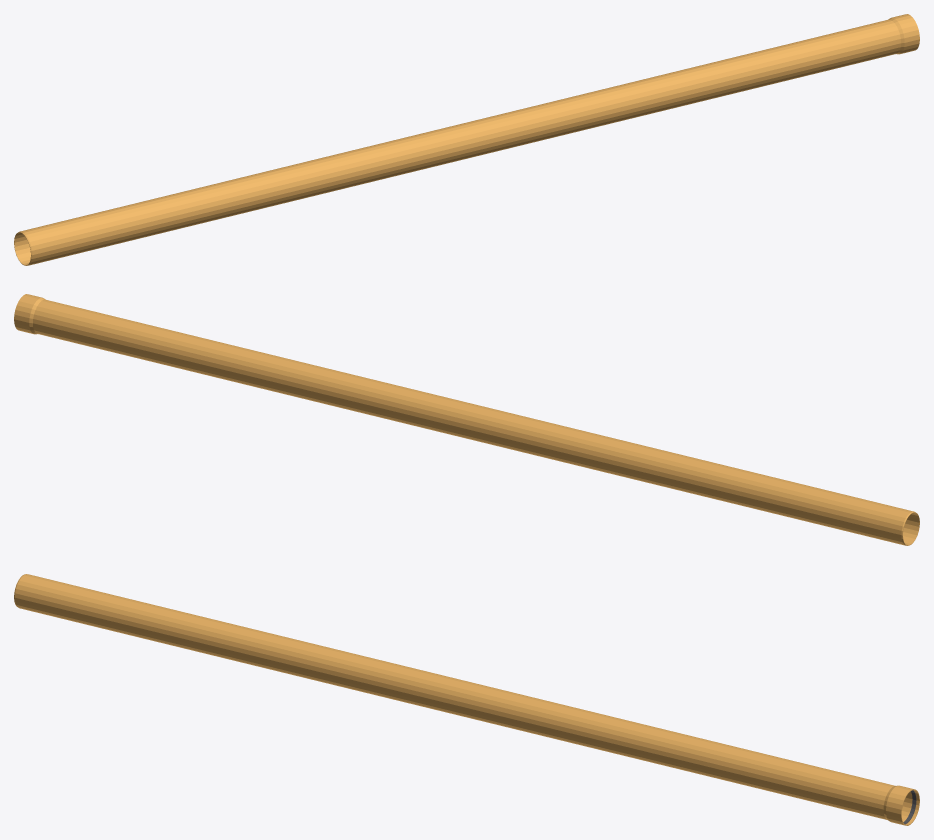
3 renders of one model, top to bottom at view 1: azimuth 30°, elevation 25°; view 2: azimuth 150°, elevation 25°; view 3: azimuth 330°, elevation 25°, orthographic.
Visible parts, largest first — view 1: tuberia__cuerpo, tuberia__campana; view 2: tuberia__cuerpo, tuberia__campana; view 3: tuberia__cuerpo, tuberia__campana.
Boxes of the visible parts, x1=… form: tuberia__cuerpo: x1=14, y1=19, x2=900, y2=265; tuberia__campana: x1=888, y1=14, x2=919, y2=54; tuberia__cuerpo: x1=33, y1=299, x2=919, y2=545; tuberia__campana: x1=14, y1=294, x2=45, y2=334; tuberia__cuerpo: x1=14, y1=574, x2=895, y2=819; tuberia__campana: x1=883, y1=785, x2=919, y2=825.
Size of the model in its own units: 6.1 by 0.2236 by 0.2236.
